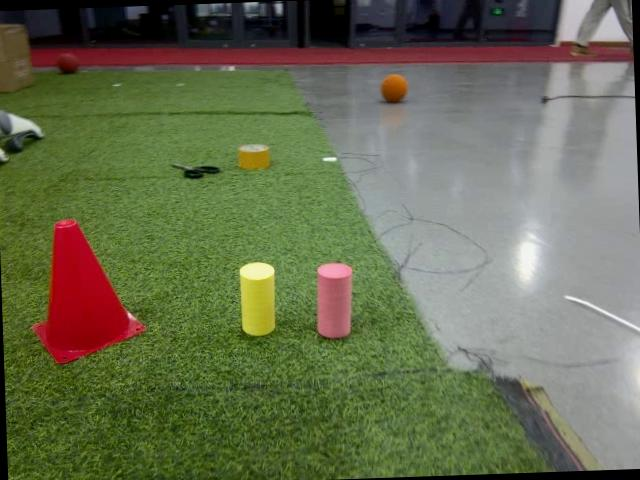orange_ball: (380, 74, 411, 104)
red_ball: (54, 52, 80, 74)
red_barrel: (26, 214, 152, 366)
red_cylinder: (312, 259, 354, 343)
yellow_cylinder: (237, 261, 280, 339)
